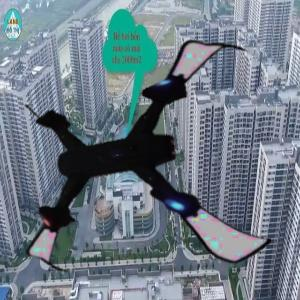drone: (21, 25, 275, 279)
